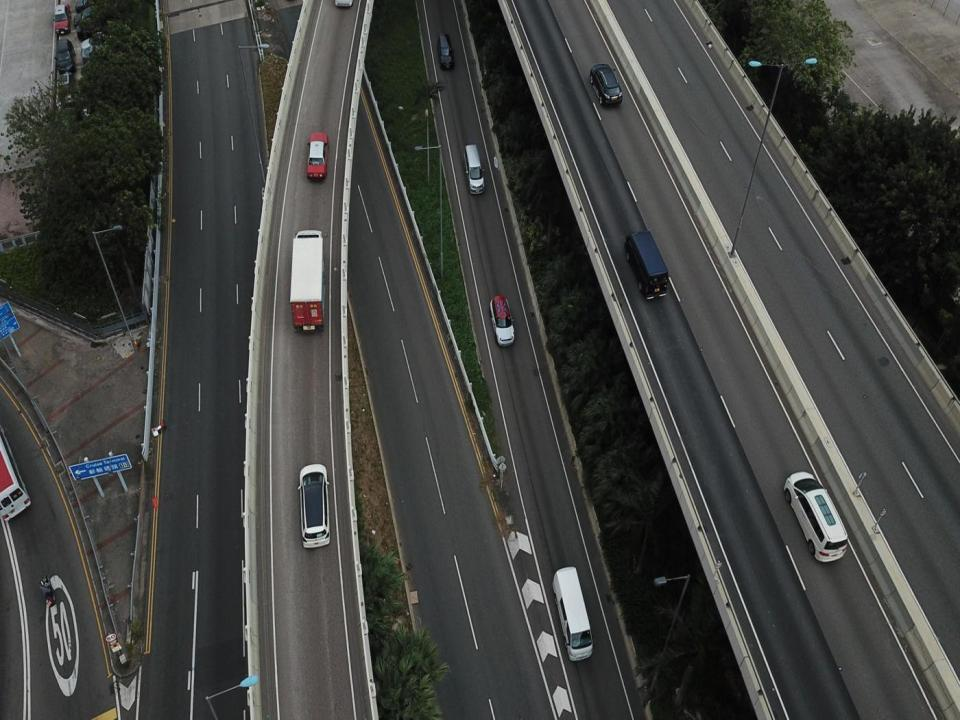car: (785, 468, 850, 564), (295, 460, 332, 551), (588, 60, 624, 106), (488, 293, 515, 349), (303, 131, 330, 181), (436, 30, 454, 70), (54, 38, 74, 70), (55, 68, 73, 102), (52, 4, 71, 33)
truck: (286, 226, 326, 332)
van: (550, 562, 594, 660), (623, 227, 669, 304), (465, 144, 483, 194)
